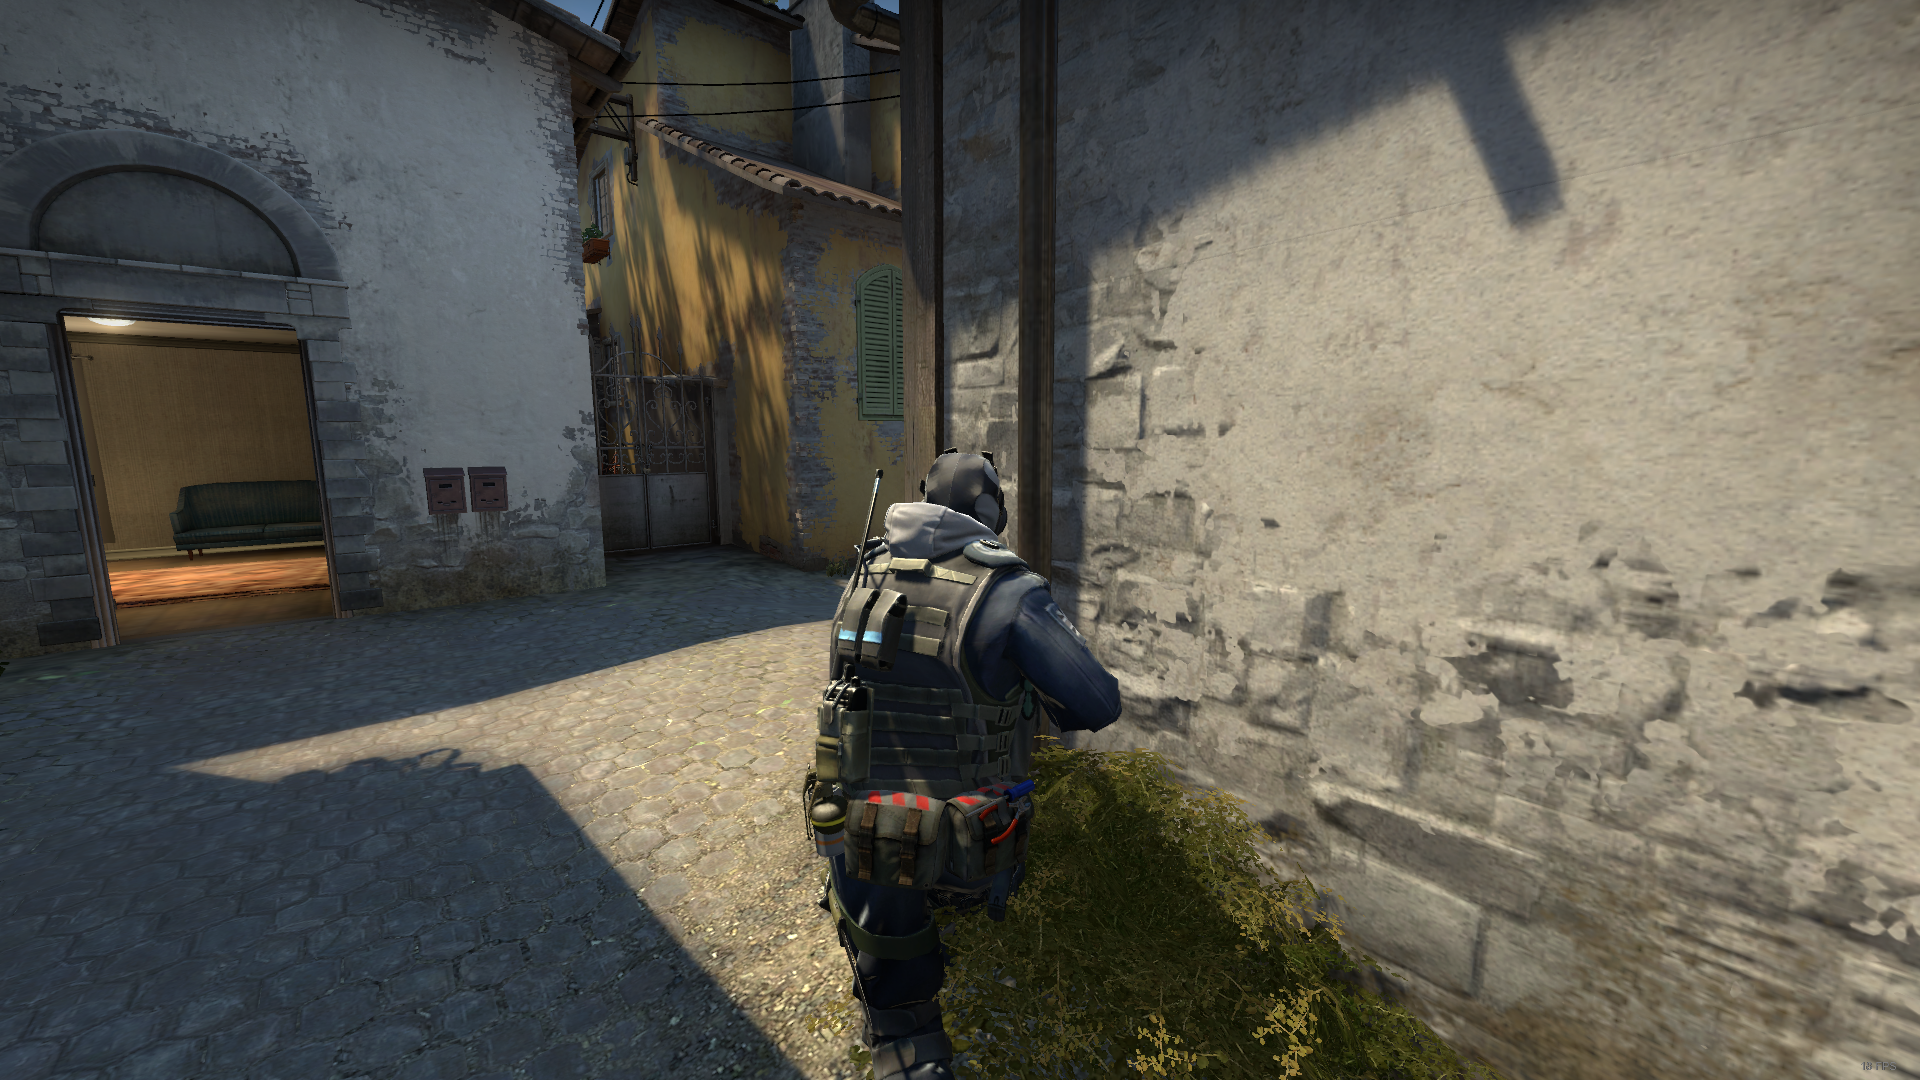ct: (802, 450, 1120, 1080)
